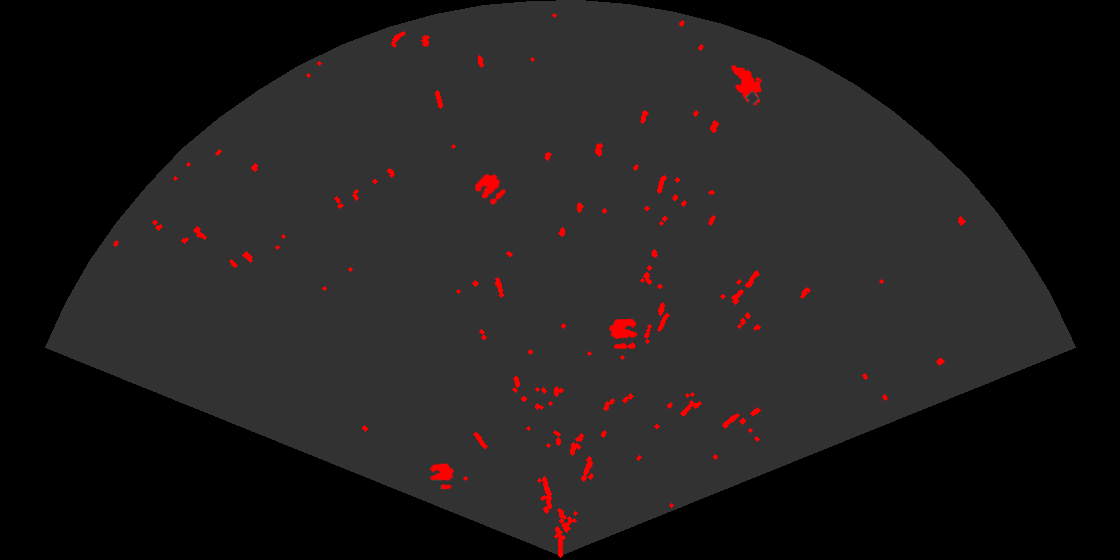AUV: (730, 63, 763, 107)
ball: (473, 172, 507, 206), (608, 317, 639, 350), (428, 461, 455, 491)
